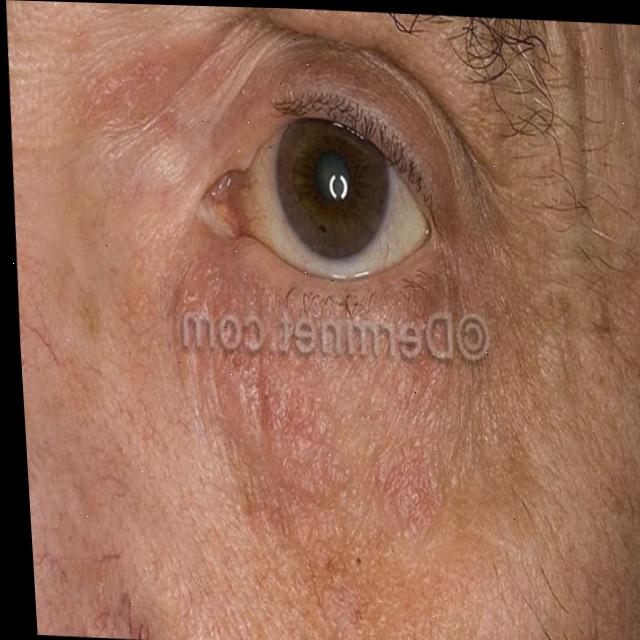Eczema: (160, 258, 497, 538)
